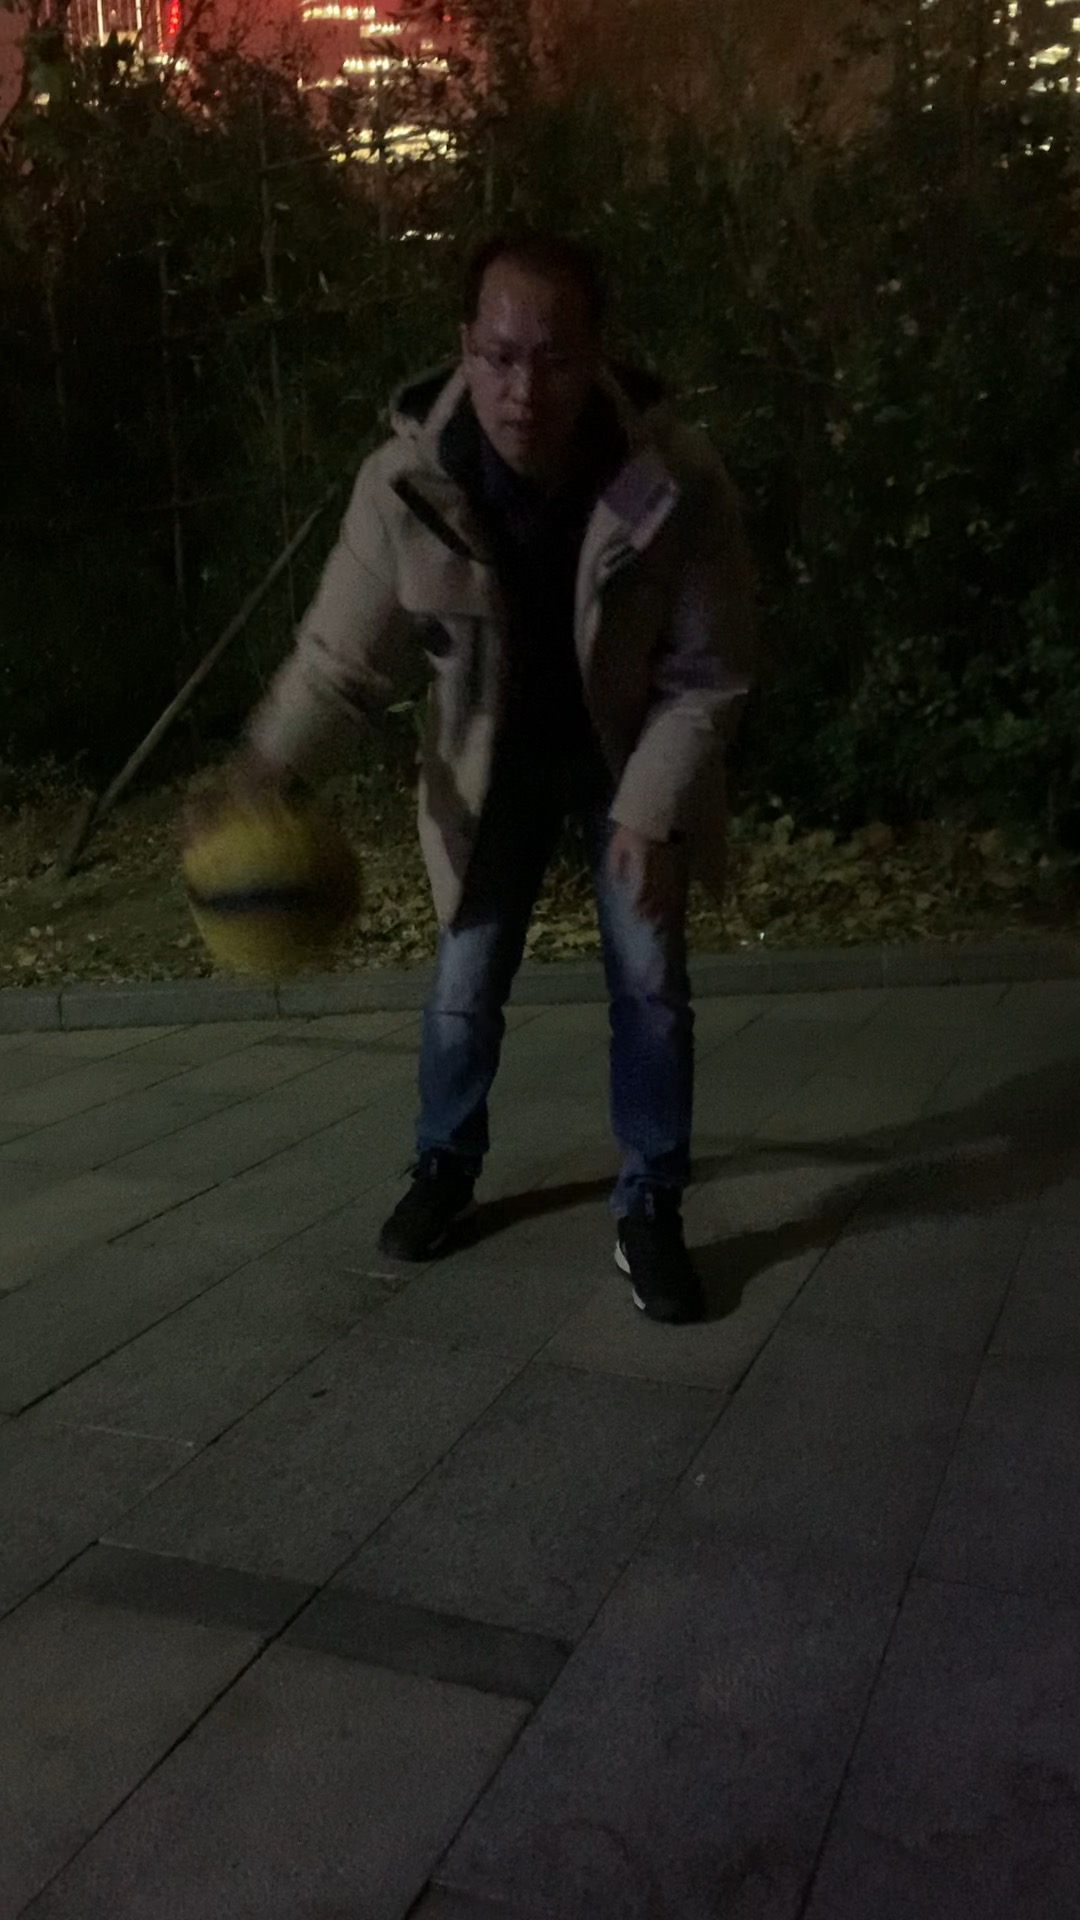ball: (167, 796, 375, 998)
